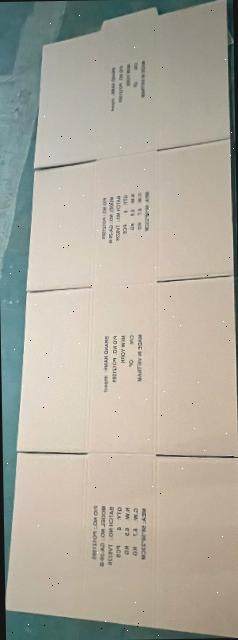box: (5, 0, 238, 638)
